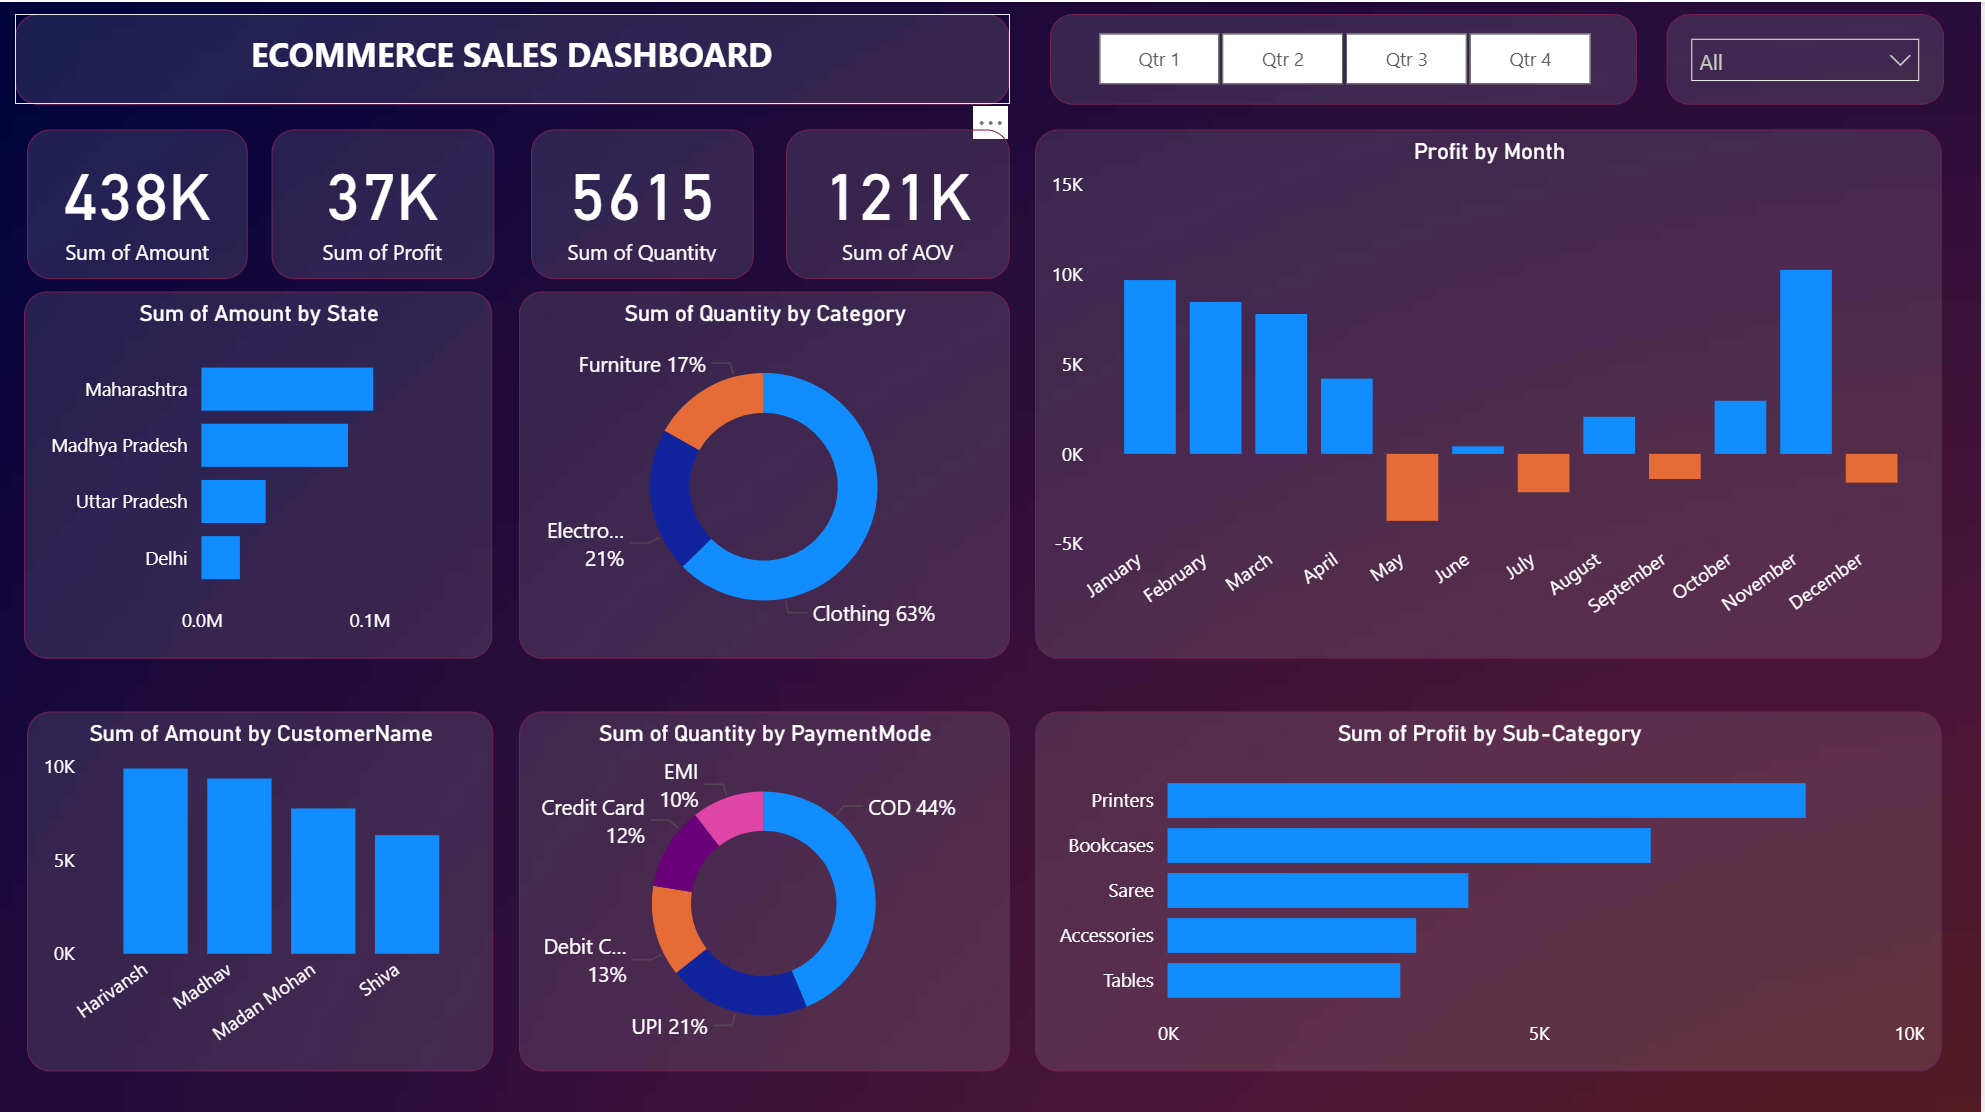

What the dashboard file says about the page in this screenshot:
{"tool":"powerbi","page":{"name":"Page 1","canvas":[1280,720],"ordinal":0},"visuals":[{"type":"textbox","box":[10.1,8,642.7,58.3],"z":0},{"type":"columnChart","title":"Profit by Month","fields":{"Category":["Orders.Order Date.Variation.Date Hierarchy.Month"],"Y":["Sum(Details.Profit)"]},"box":[669.4,82.1,586.3,342],"z":1000},{"type":"barChart","fields":{"Category":["Details.Sub-Category"],"Y":["Sum(Details.Profit)"]},"box":[669.4,458.4,586.3,232.8],"z":2000},{"type":"donutChart","fields":{"Category":["Details.Category"],"Y":["Sum(Details.Quantity)"]},"box":[335.8,187.1,317,237],"z":3000},{"type":"donutChart","fields":{"Y":["Sum(Details.Quantity)"],"Category":["Details.PaymentMode"]},"box":[335.8,458.4,317,232.8],"z":4000},{"type":"card","fields":{"Values":["Sum(Details.Quantity)"]},"box":[343,82.5,143.8,96.6],"z":5000},{"type":"card","fields":{"Values":["Sum(Details.Amount)"]},"box":[17.1,82.5,142.8,96.6],"z":6000},{"type":"card","fields":{"Values":["Sum(Details.Profit)"]},"box":[175,82.5,143.8,96.6],"z":7000},{"type":"card","fields":{"Values":["Sum(Details.AOV)"]},"box":[507.9,82.5,144.8,96.6],"z":8000},{"type":"barChart","fields":{"Category":["Orders.State"],"Y":["Sum(Details.Amount)"]},"box":[15.6,187.1,302.5,237],"z":9000},{"type":"columnChart","fields":{"Category":["Orders.CustomerName"],"Y":["Sum(Details.Amount)"]},"box":[17.4,458.9,301.3,232.9],"z":10000},{"type":"slicer","fields":{"Values":["Orders.Order Date.Variation.Date Hierarchy.Quarter"]},"box":[678.9,8,379.2,58.3],"z":11000},{"type":"slicer","fields":{"Values":["Orders.State"]},"box":[1077.2,8,179,58.3],"z":12000}]}

Visuals, with their boxes in screenshot pixels (x1, y1, x2, y2), scaled from the page's 1280x720 canvas onto the 1985x1112 screenshot:
textbox: [16,12,1012,102]
"Profit by Month" columnChart: [1038,127,1947,655]
barChart - Details.Sub-Category x Sum(Details.Profit): [1038,708,1947,1068]
donutChart - Details.Category x Sum(Details.Quantity): [521,289,1012,655]
donutChart - Sum(Details.Quantity) x Details.PaymentMode: [521,708,1012,1068]
card - Sum(Details.Quantity): [532,127,755,277]
card - Sum(Details.Amount): [27,127,248,277]
card - Sum(Details.Profit): [271,127,494,277]
card - Sum(Details.AOV): [788,127,1012,277]
barChart - Orders.State x Sum(Details.Amount): [24,289,493,655]
columnChart - Orders.CustomerName x Sum(Details.Amount): [27,709,494,1068]
slicer - Orders.Order Date.Variation.Date Hierarchy.Quarter: [1053,12,1641,102]
slicer - Orders.State: [1671,12,1948,102]
